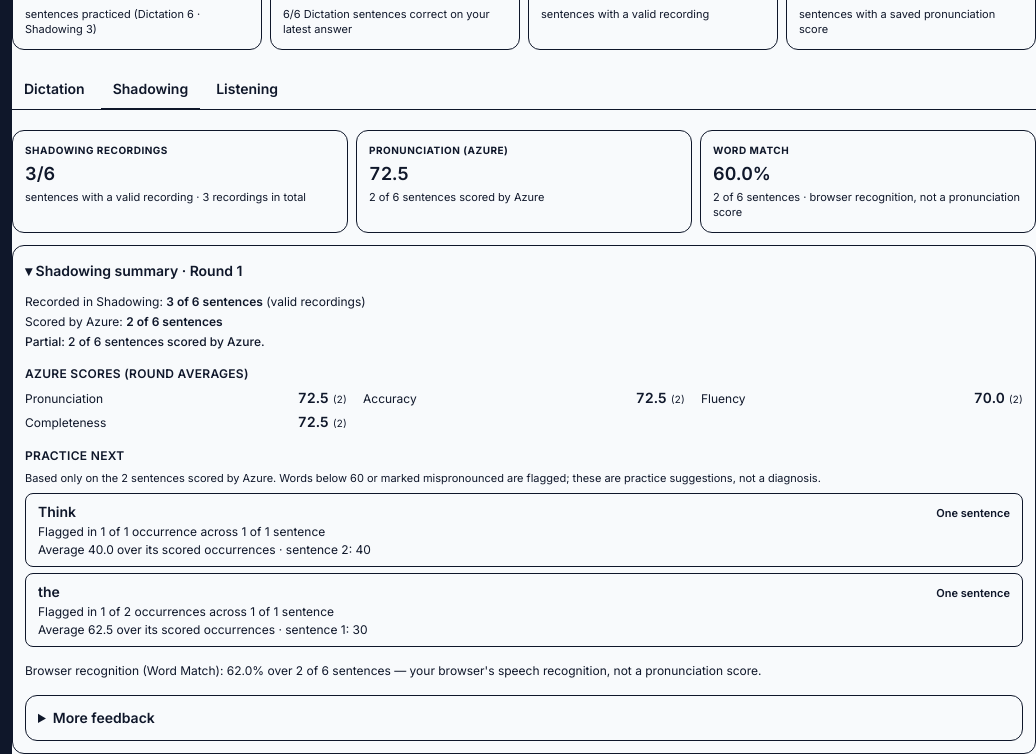
Test: states › partially evaluated: scoped statements, evidence-backed priorities, omissions as 'not recognized'
(page scrolled)
Expected: the text with test id "ss-state" reads "Partial: 2 of 6 sentences scored by Azure.", left=25, top=334, right=265, bottom=349
Expected: the text "Based only on the 2 sentences scored by Azure" is shown, left=25, top=471, right=821, bottom=485
Click the heading "More feedback" at (104, 717), box left=53, top=709, right=155, bottom=726
(page scrolled)
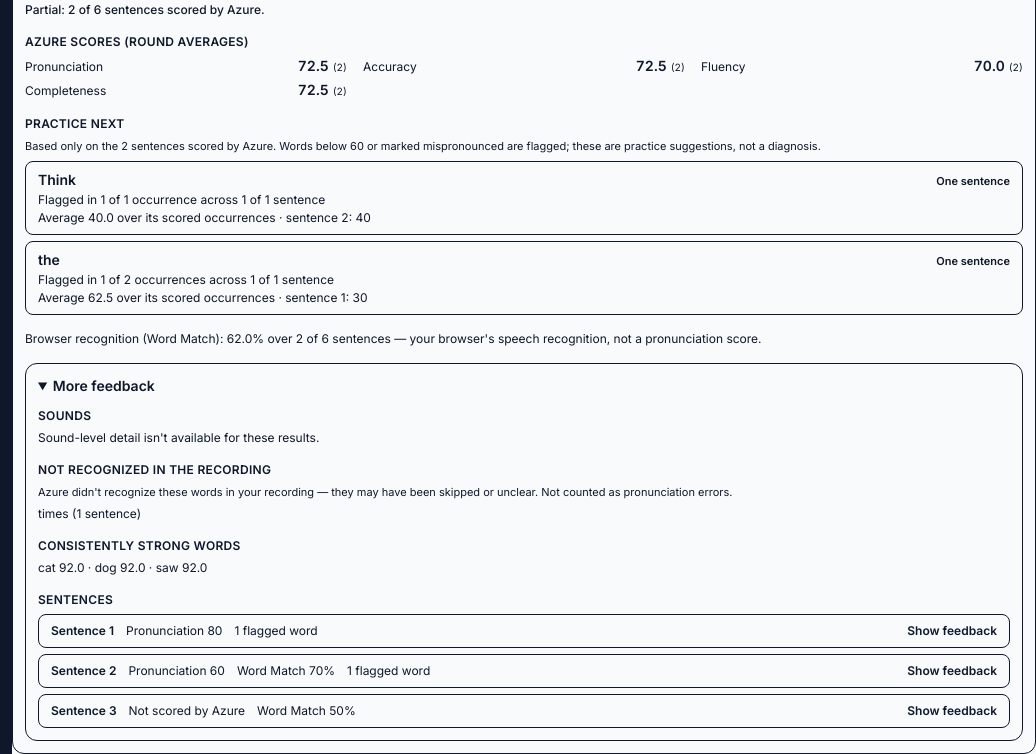
Result: the element with test id "ss-not-recognized" shows "times (1 sentence)" at left=38, top=506, right=141, bottom=521
